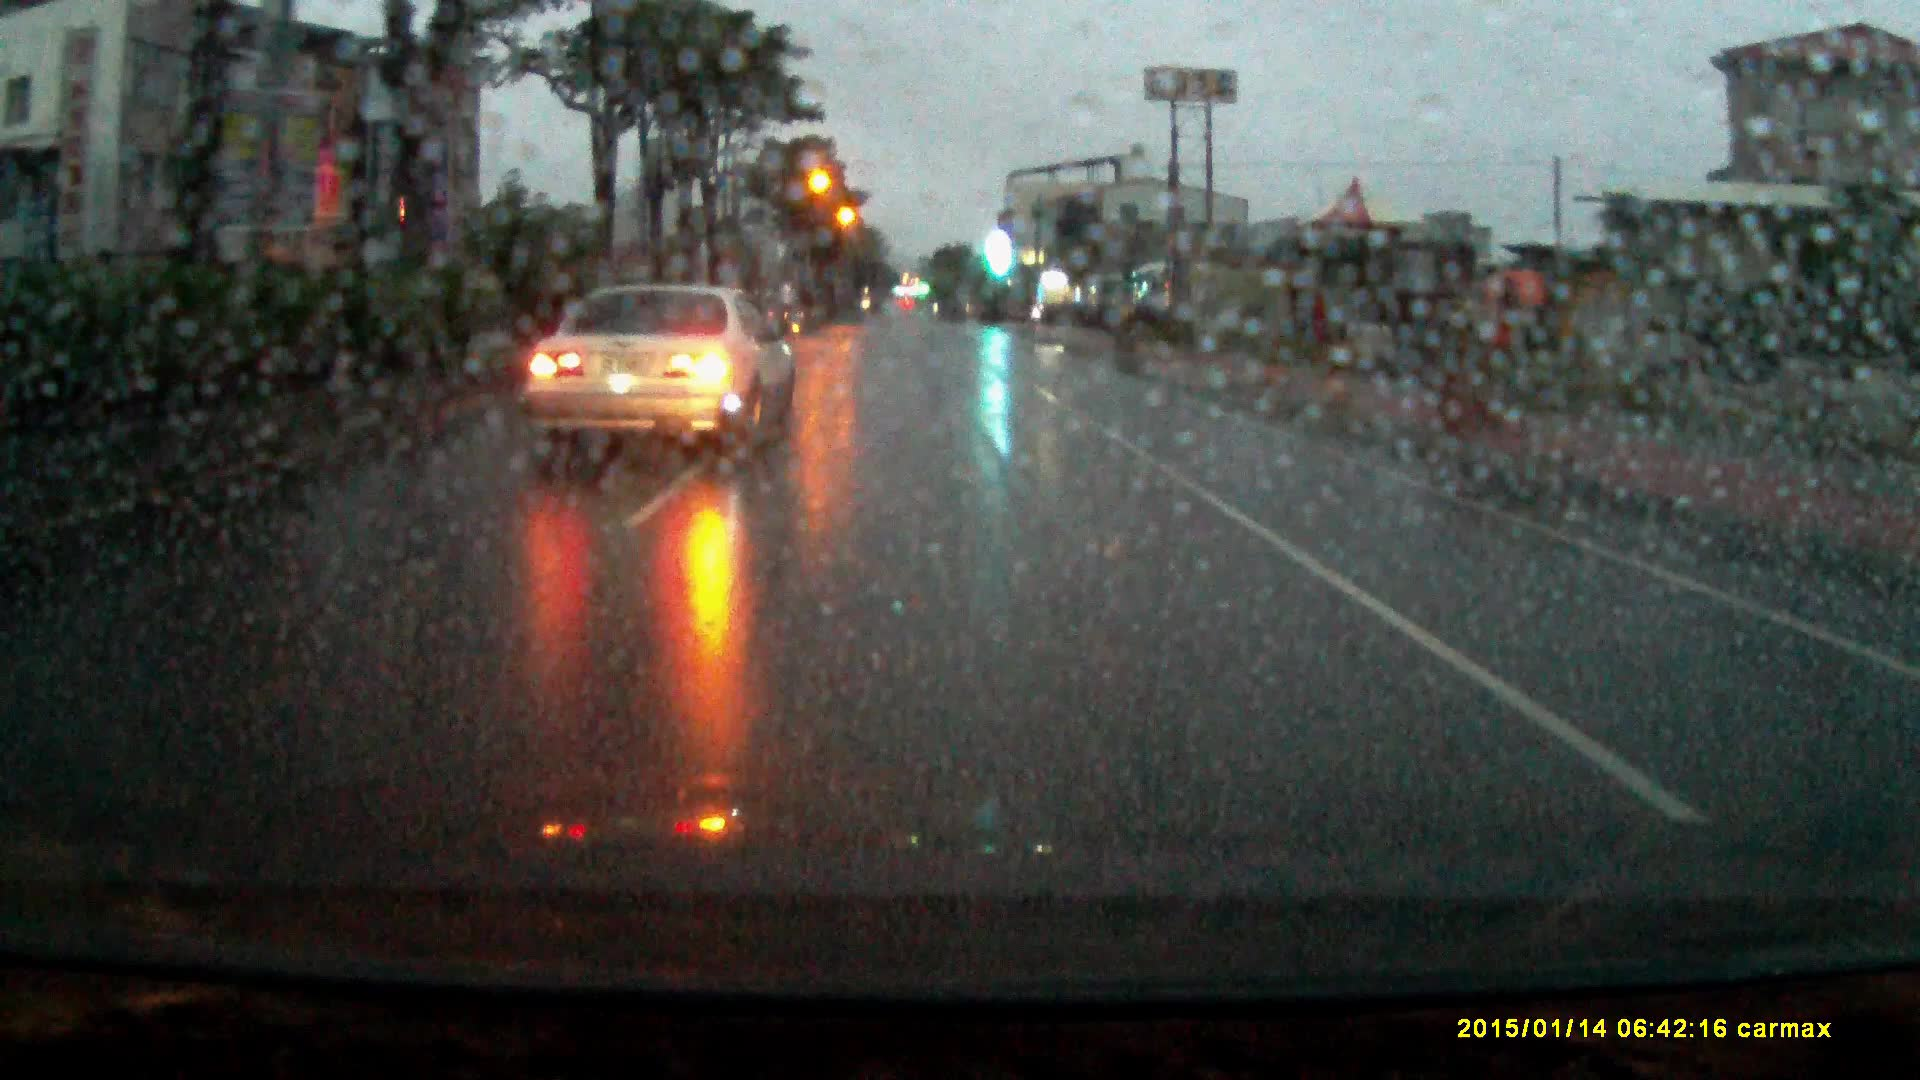pedestrian: (1471, 271, 1561, 459)
vehicle: (518, 286, 800, 470)
